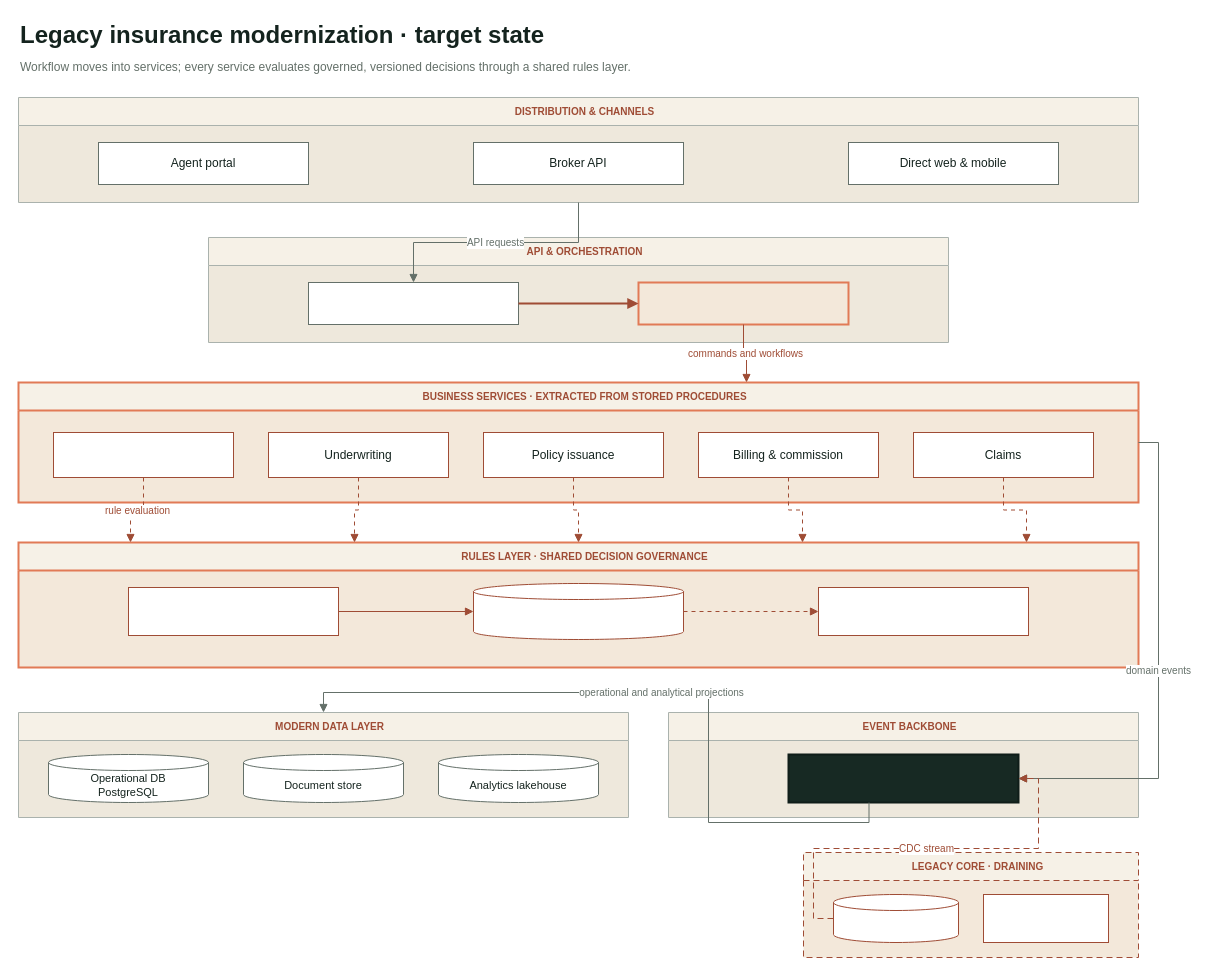
This 1208x975 diagram has some shape labels left out. The centre of each missing label's shape, as x and y in pixels:
"API gateway" belongs at (x=413, y=303).
"Decision evaluation Zen Engine in every service" belongs at (x=923, y=611).
"Kafka / Event Hub" belongs at (x=903, y=778).
"Legacy stored procedures" belongs at (x=1045, y=918).
"Rating" belongs at (x=143, y=455).
"Rules management UI GoRules BRMS" belongs at (x=233, y=611).
"Sybase ASE" belongs at (x=895, y=918).
"Versioned decision graphs JDM JSON" belongs at (x=578, y=611).
"Workflow orchestrator" belongs at (x=743, y=303).
